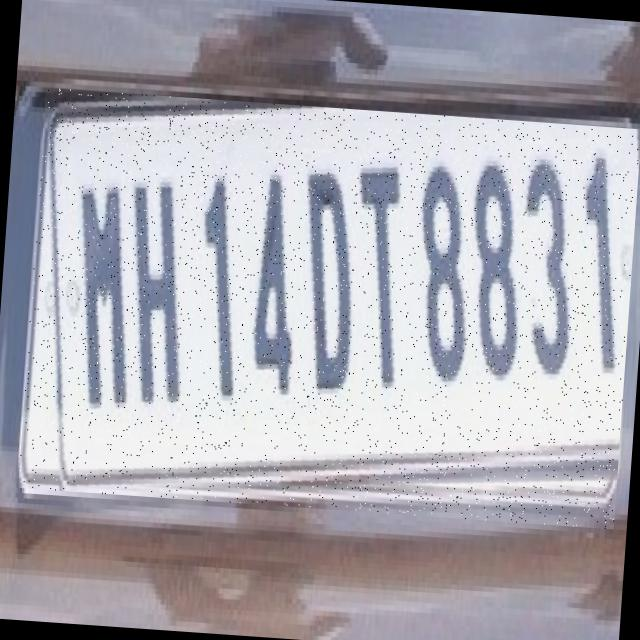Plate: (18, 88, 640, 530)
